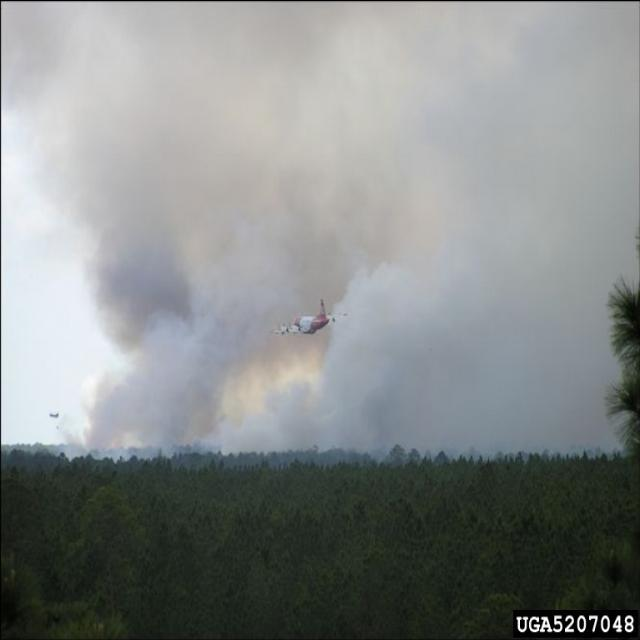smoke: (47, 0, 640, 239), (335, 238, 624, 455), (81, 241, 283, 462)
